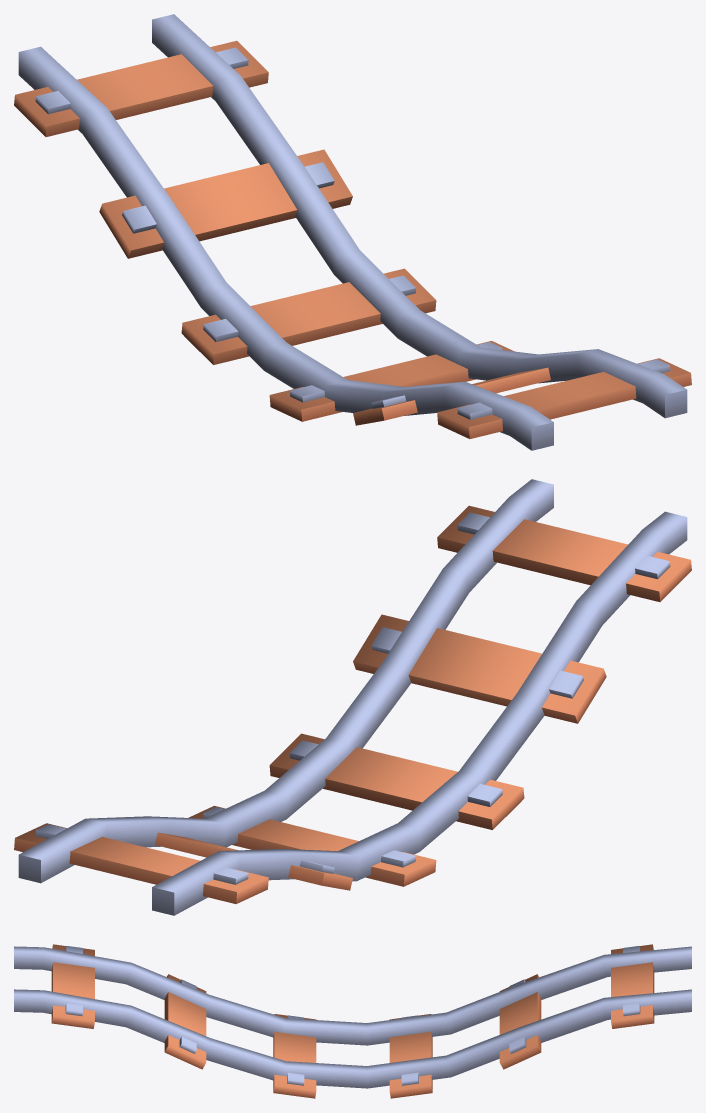
The model's file is kenney-train-railroad-straight-bump-down.glb.
3 views of the same model, one above another, from view 1: azimuth 30°, elevation 25°; view 2: azimuth 150°, elevation 25°; view 3: azimuth 270°, elevation 25° (orthographic). The views are drawn at different scales.
Visible parts, largest first — view 1: railroad-straight-bump-down; view 2: railroad-straight-bump-down; view 3: railroad-straight-bump-down.
Part boxes in pixels (<box>): railroad-straight-bump-down: <box>14,14,691,450</box>; railroad-straight-bump-down: <box>14,479,691,915</box>; railroad-straight-bump-down: <box>14,944,691,1098</box>.
Size of the model in its own units: 1 by 0.5986 by 4.
Materials: 1 (1 with a texture image).
